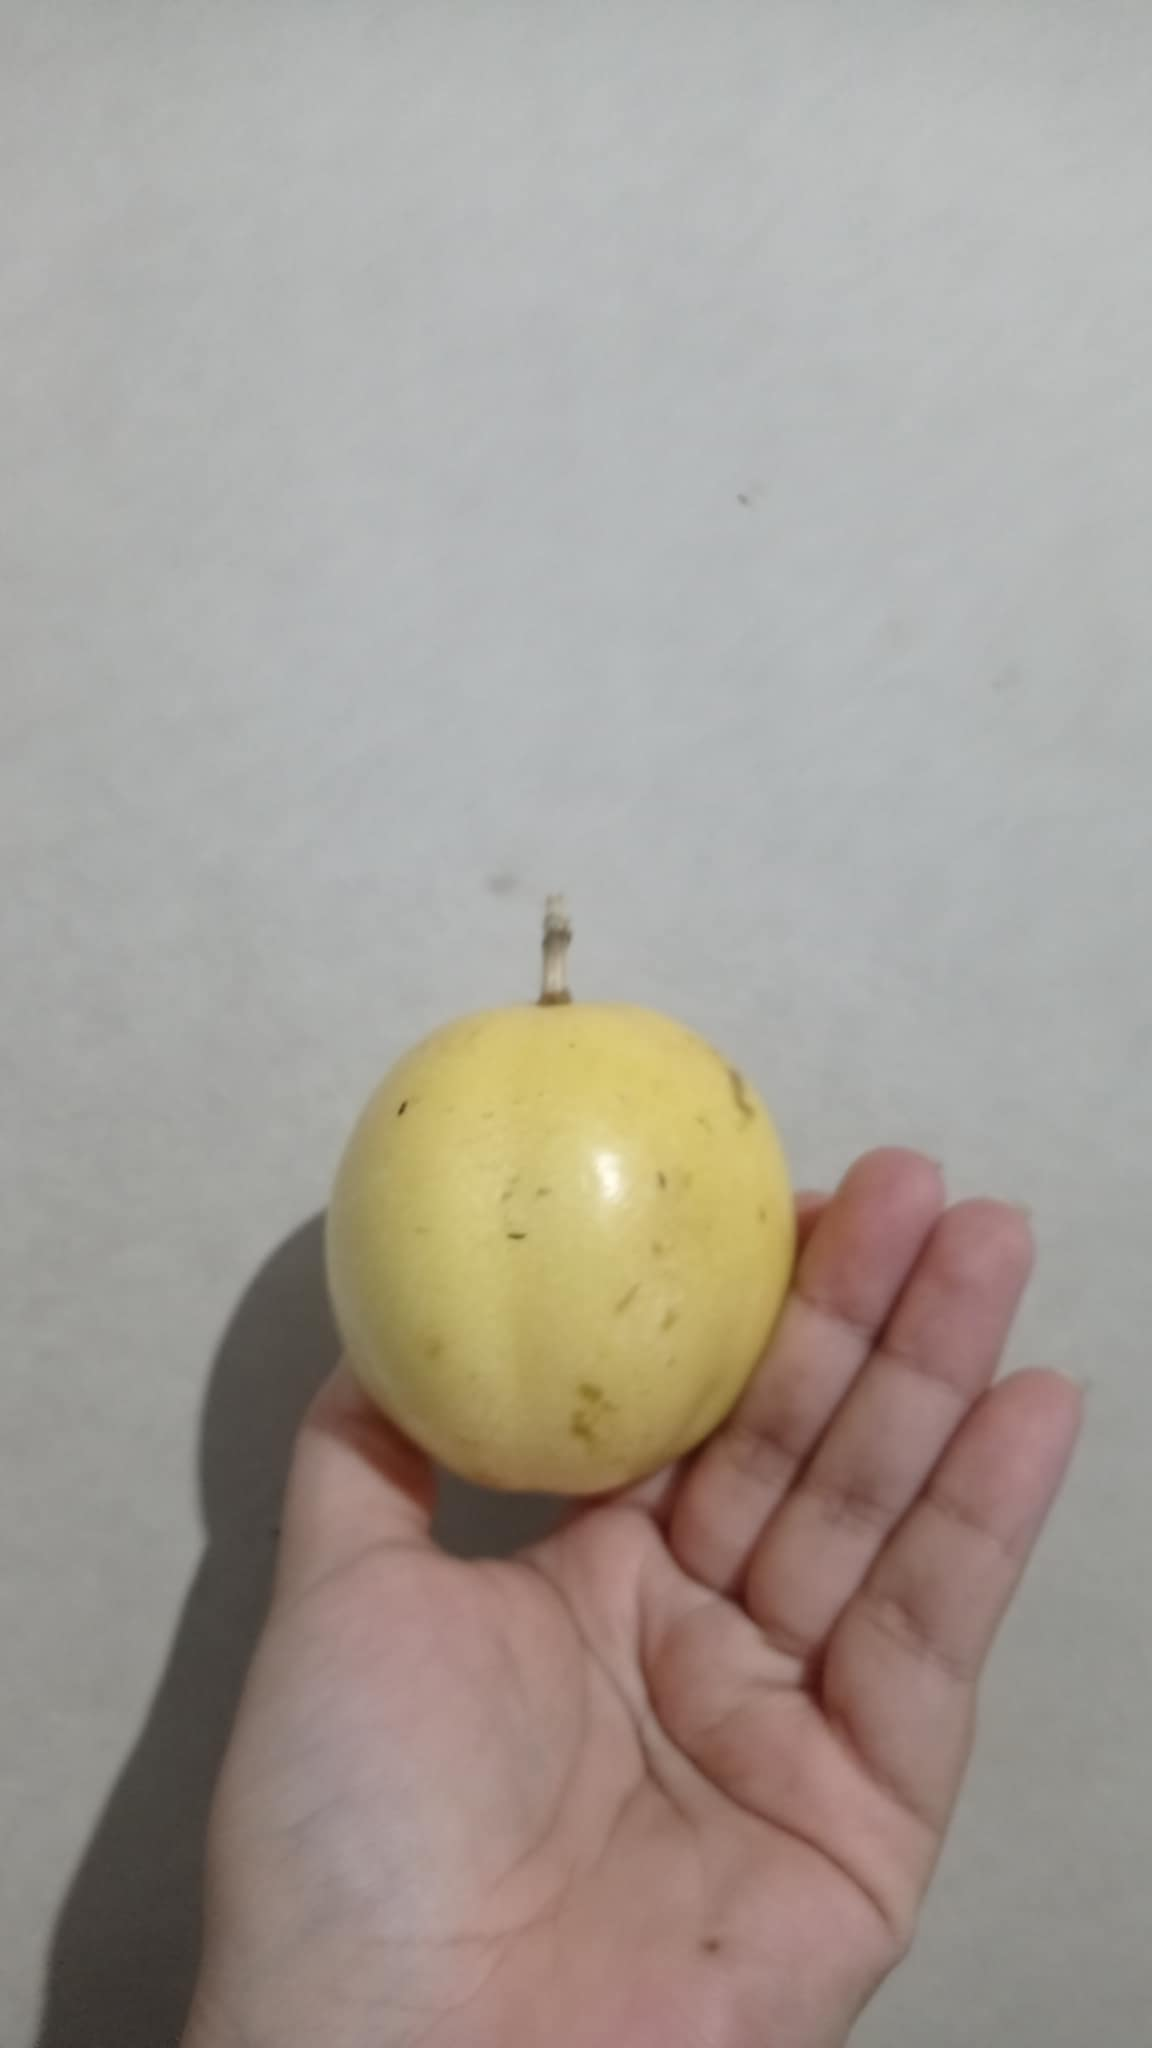maracuya: (332, 843, 809, 1549)
